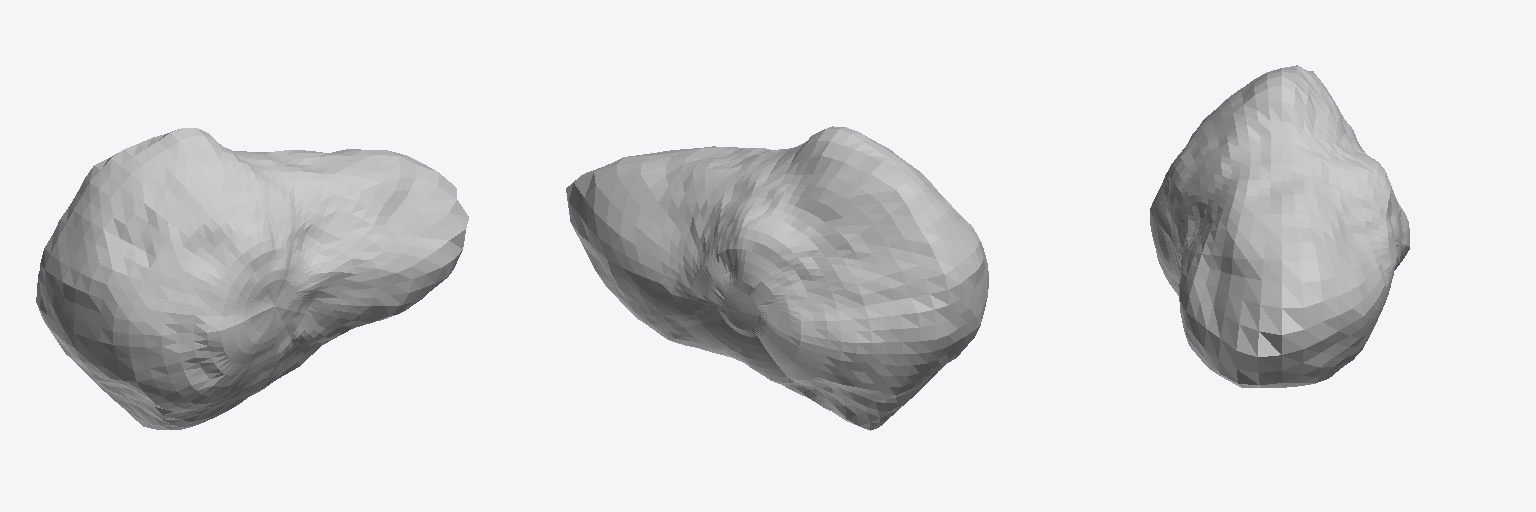
The model's file is Gaspra_scale0002.obj.
3 views of the same model, side by side, from view 1: azimuth 30°, elevation 25°; view 2: azimuth 150°, elevation 25°; view 3: azimuth 270°, elevation 25° (orthographic).
Bounding box in the file's own units: 0.0036 × 0.0025 × 0.002.